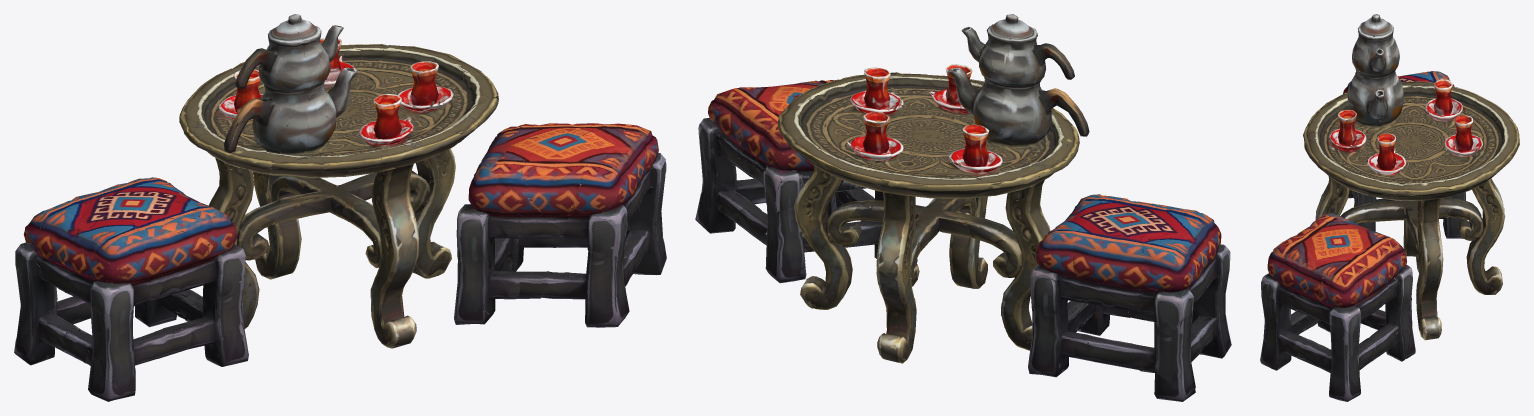
Rendered from TeaTable.fbx.
3 renders of one model, left to right at view 1: azimuth 30°, elevation 25°; view 2: azimuth 150°, elevation 25°; view 3: azimuth 270°, elevation 25°, orthographic. The views are drawn at different scales.
Visible parts, largest first — view 1: TeaTable; view 2: TeaTable; view 3: TeaTable.
Part boxes in pixels (left/top/right/bottom): TeaTable: left=14, top=14, right=666, bottom=401; TeaTable: left=695, top=14, right=1231, bottom=401; TeaTable: left=1260, top=14, right=1519, bottom=401.
Bounding box in the file's own units: 1.56 × 0.83 × 0.76.
1 material, 1 textured.
